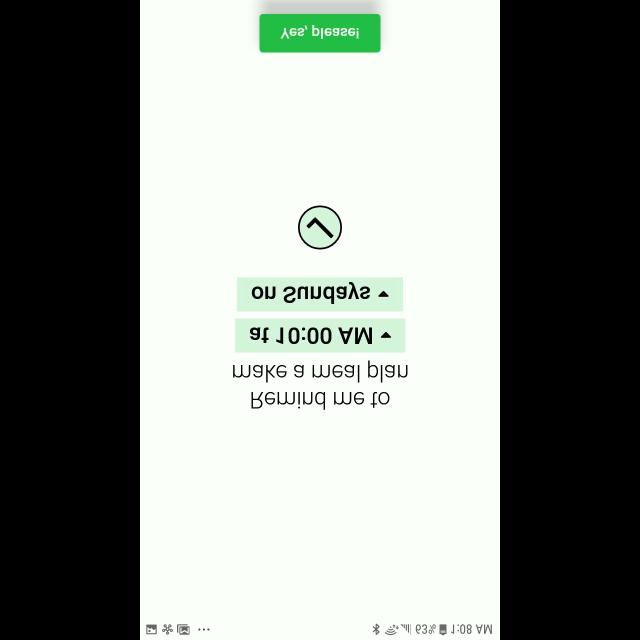icon: (298, 205, 342, 249), (378, 291, 389, 297), (381, 332, 391, 338)
spinner: (234, 318, 406, 352), (237, 277, 403, 311)
text: (232, 360, 408, 410), (252, 282, 371, 304), (250, 328, 372, 344)
textbutton: (260, 14, 380, 54)
uppertaskbar: (140, 622, 500, 640)
